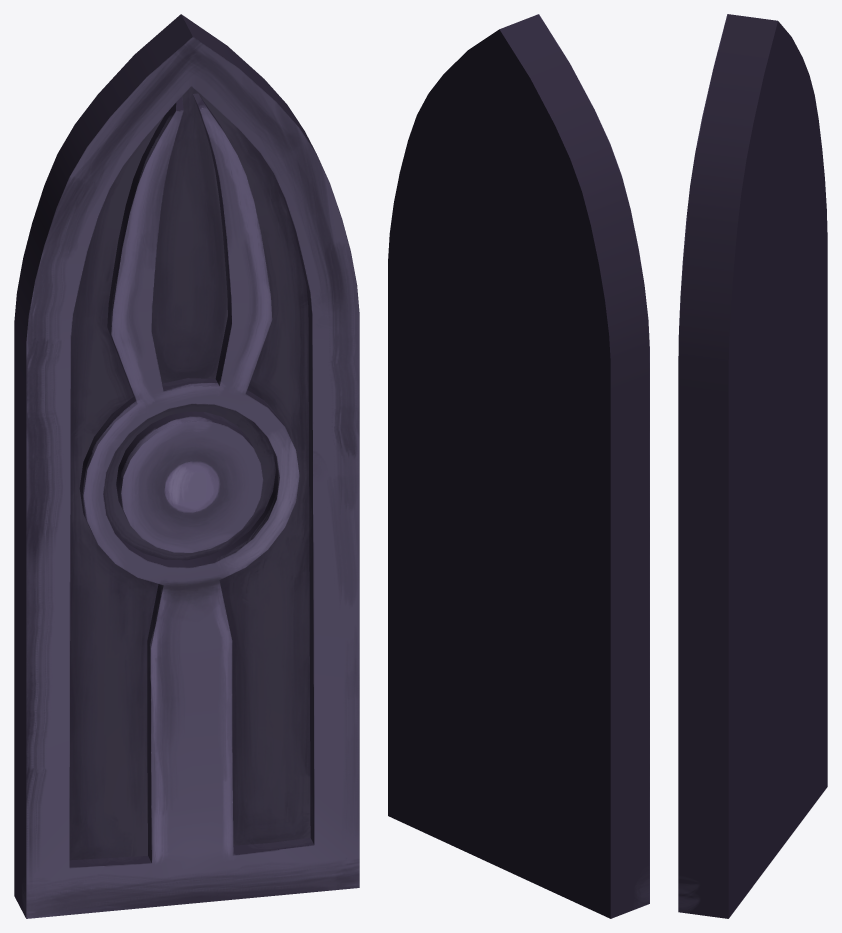
The model's file is porte_seule.fbx.
3 renders of one model, left to right at view 1: azimuth 30°, elevation 25°; view 2: azimuth 150°, elevation 25°; view 3: azimuth 270°, elevation 25°, orthographic. The views are drawn at different scales.
Parts seen in each view (by area): view 1: porte_entree; view 2: porte_entree; view 3: porte_entree.
Boxes of the visible parts, <box> form: porte_entree: <box>14,14,359,918</box>; porte_entree: <box>388,14,649,918</box>; porte_entree: <box>678,14,827,918</box>.
Size of the model in its own units: 9 by 25.18 by 4.09.
